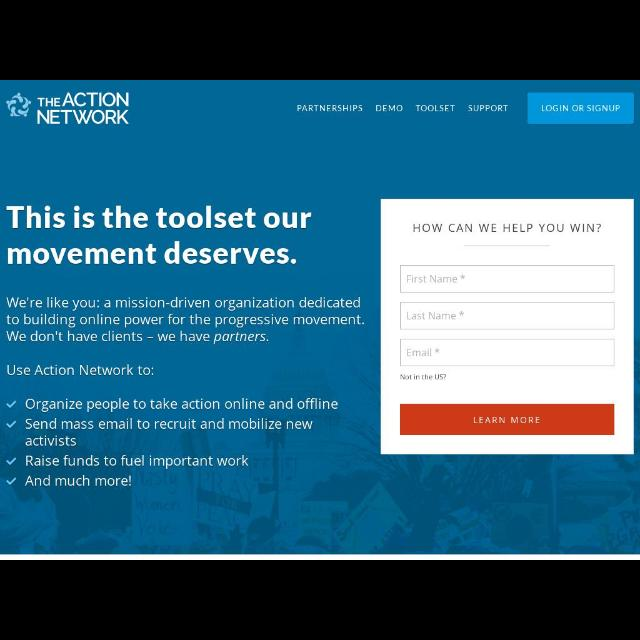image: (7, 92, 129, 124), (6, 420, 16, 428), (6, 478, 16, 484), (7, 402, 16, 408), (7, 458, 16, 464)
input: (400, 302, 614, 330), (401, 339, 614, 366), (401, 266, 614, 292)
text: (7, 206, 311, 264), (6, 296, 364, 344), (26, 418, 312, 446), (26, 399, 338, 413), (26, 455, 248, 469), (7, 364, 153, 376), (414, 224, 600, 232), (26, 476, 130, 486), (542, 105, 620, 111), (408, 274, 464, 282), (408, 312, 464, 320), (474, 417, 540, 423), (298, 105, 362, 111), (400, 374, 446, 380), (407, 348, 439, 356), (468, 105, 508, 111), (416, 105, 454, 111), (376, 105, 402, 111)
textbutton: (400, 404, 614, 434), (528, 92, 634, 124)
